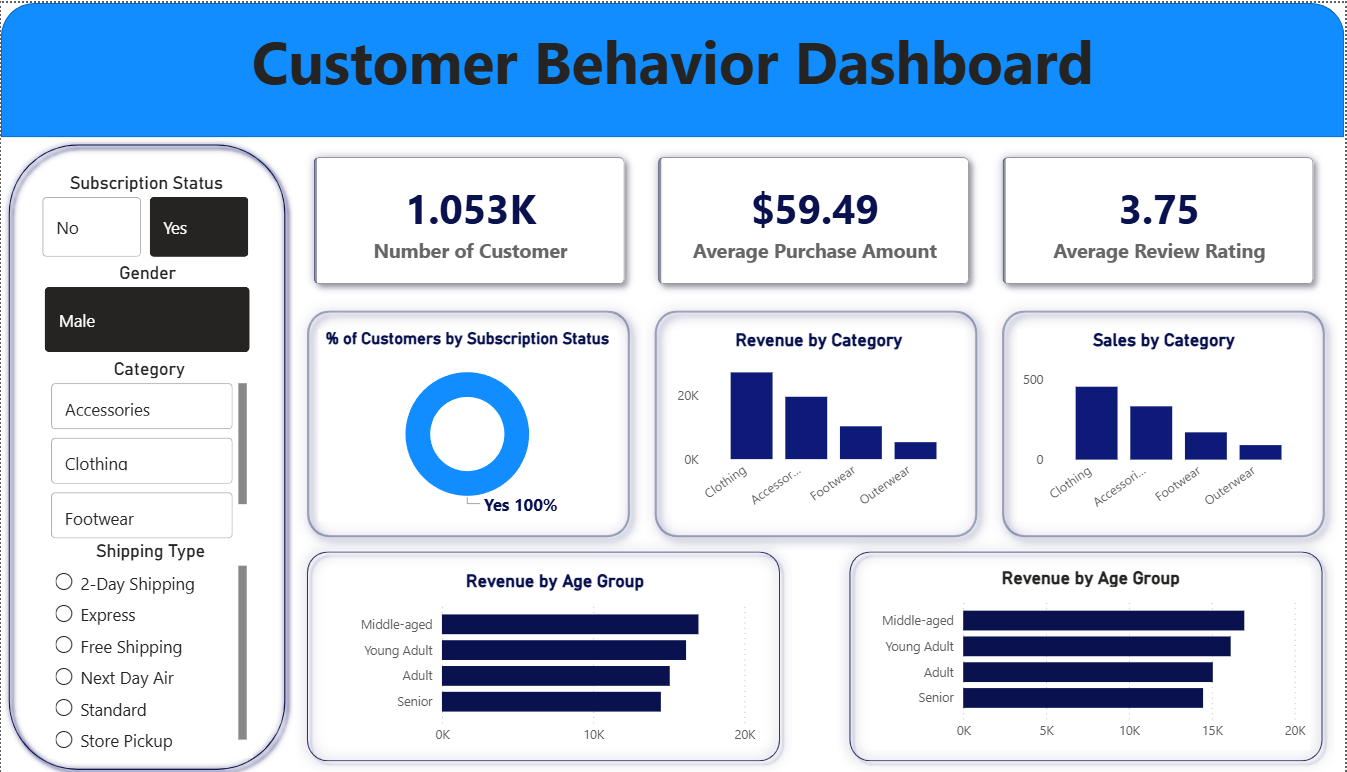

Layout of this report page (visuals, bound fields, positions):
{"tool":"powerbi","page":{"name":"Page 1","canvas":[1280,738],"ordinal":0},"visuals":[{"type":"cardVisual","fields":{"Data":["customer_behavior data.Number of Customer","customer_behavior data.Average Purchase Amount","customer_behavior data.Average Review Rating"]},"box":[269.1,117.6,1010.3,179.4],"z":0},{"type":"shape","box":[0,0,1279.4,127.9],"z":1000},{"type":"textbox","box":[0,11.8,1279.4,116.2],"z":2000},{"type":"shape","box":[279.4,280.9,330.9,239.7],"z":3000},{"type":"donutChart","title":"% of Customers by Subscription Status","fields":{"Category":["customer_behavior data.subscription_status"],"Y":["Count(customer_behavior data.customer_id)"]},"box":[302.9,310.3,283.8,182.4],"z":4000},{"type":"shape","box":[610.3,280.9,330.9,239.7],"z":5000},{"type":"shape","box":[941.2,280.9,330.9,239.7],"z":6000},{"type":"clusteredColumnChart","title":"Revenue by Category","fields":{"Y":["Sum(customer_behavior data.purchase_amount)"],"Category":["customer_behavior data.category"]},"box":[639.7,310.3,279.4,180.9],"z":7000},{"type":"clusteredColumnChart","title":"Sales by Category","fields":{"Y":["CountNonNull(customer_behavior data.purchase_amount)"],"Category":["customer_behavior data.category"]},"box":[967.6,310.3,279.4,182.4],"z":8000},{"type":"shape","box":[0,127.8,278.3,610.4],"z":9000},{"type":"advancedSlicerVisual","title":"Subscription Status","fields":{"Values":["customer_behavior data.subscription_status"]},"box":[34.2,160.2,207.9,86.8],"z":10000},{"type":"advancedSlicerVisual","title":"Gender","fields":{"Values":["customer_behavior data.gender"]},"box":[36.7,247,205.4,91.7],"z":11000},{"type":"advancedSlicerVisual","title":"Category","fields":{"Values":["customer_behavior data.category"]},"box":[42.8,337.5,196.9,178.5],"z":12000},{"type":"listSlicer","title":"Shipping Type","fields":{"Values":["customer_behavior data.shipping_type"]},"box":[45.1,511.4,194.3,206.8],"z":12001},{"type":"clusteredBarChart","title":"Revenue by Age Group","fields":{"Y":["Sum(customer_behavior data.purchase_amount)"],"Category":["customer_behavior data.age_group"]},"box":[332.2,540.2,391.1,174.2],"z":12002},{"type":"shape","box":[278.3,512.6,473.8,223.1],"z":12003},{"type":"shape","box":[795.9,510.1,473.8,223.1],"z":12004},{"type":"clusteredBarChart","title":"Revenue by Age Group","fields":{"Y":["Sum(customer_behavior data.purchase_amount)"],"Category":["customer_behavior data.age_group"]},"box":[828.5,536.5,418.6,174.2],"z":12005}]}

Visuals, with their boxes in screenshot pixels (x1, y1, x2, y2), scaled from the page's 1280x738 canvas onto the 1347x772 screenshot:
cardVisual - customer_behavior data.Number of Customer x customer_behavior data.Average Purchase Amount: [left=283, top=123, right=1346, bottom=311]
shape: [left=0, top=0, right=1346, bottom=134]
textbox: [left=0, top=12, right=1346, bottom=134]
shape: [left=294, top=294, right=642, bottom=545]
"% of Customers by Subscription Status" donutChart: [left=319, top=325, right=617, bottom=515]
shape: [left=642, top=294, right=990, bottom=545]
shape: [left=990, top=294, right=1339, bottom=545]
"Revenue by Category" clusteredColumnChart: [left=673, top=325, right=967, bottom=514]
"Sales by Category" clusteredColumnChart: [left=1018, top=325, right=1312, bottom=515]
shape: [left=0, top=134, right=293, bottom=771]
"Subscription Status" advancedSlicerVisual: [left=36, top=168, right=255, bottom=258]
"Gender" advancedSlicerVisual: [left=39, top=258, right=255, bottom=354]
"Category" advancedSlicerVisual: [left=45, top=353, right=252, bottom=540]
"Shipping Type" listSlicer: [left=47, top=535, right=252, bottom=751]
"Revenue by Age Group" clusteredBarChart: [left=350, top=565, right=761, bottom=747]
shape: [left=293, top=536, right=791, bottom=770]
shape: [left=838, top=534, right=1336, bottom=767]
"Revenue by Age Group" clusteredBarChart: [left=872, top=561, right=1312, bottom=743]
